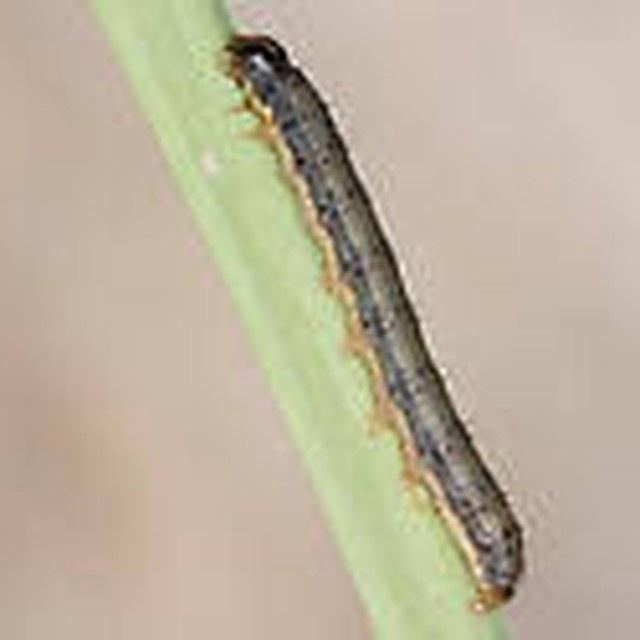gusano_cogollero: (219, 29, 532, 615)
